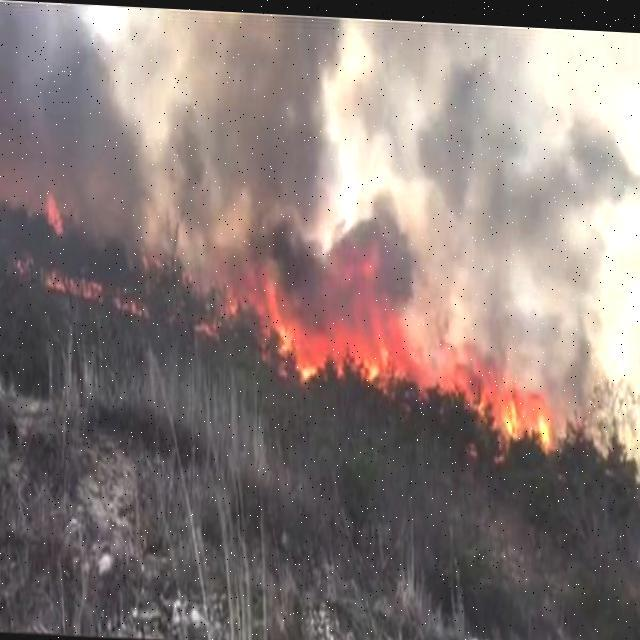Fire: (248, 262, 550, 446), (38, 192, 230, 332)
